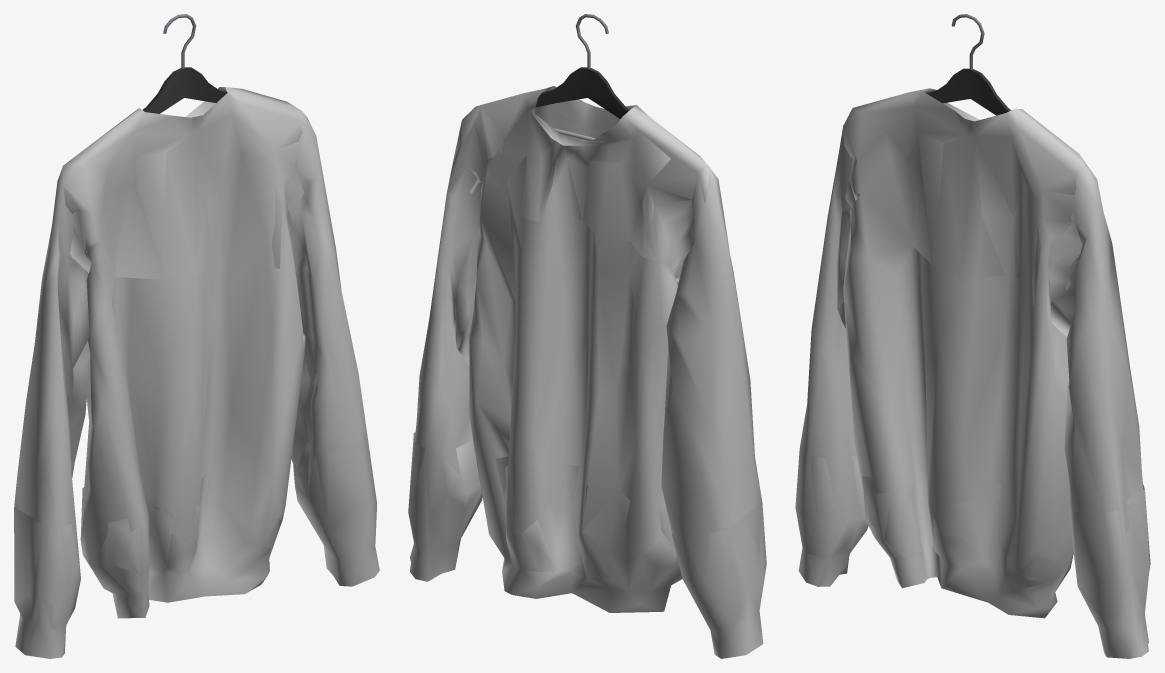
Rendered from sweater-1.FBX.
3 views of the same model, side by side, from view 1: azimuth 30°, elevation 25°; view 2: azimuth 150°, elevation 25°; view 3: azimuth 330°, elevation 25° (orthographic).
Parts seen in each view (by area): view 1: sweater-1_LOD0, _Hanger-3_LOD0; view 2: sweater-1_LOD0, _Hanger-3_LOD0; view 3: sweater-1_LOD0, _Hanger-3_LOD0.
Boxes of the visible parts, x1,y1,x2,y2 form: sweater-1_LOD0: (14,87,379,658); _Hanger-3_LOD0: (143,14,227,113); sweater-1_LOD0: (408,86,766,658); _Hanger-3_LOD0: (535,14,629,141); sweater-1_LOD0: (795,88,1150,658); _Hanger-3_LOD0: (926,14,1011,115).
Size of what is drawn, in the model's own units: 50.36 by 12.16 by 82.63.
